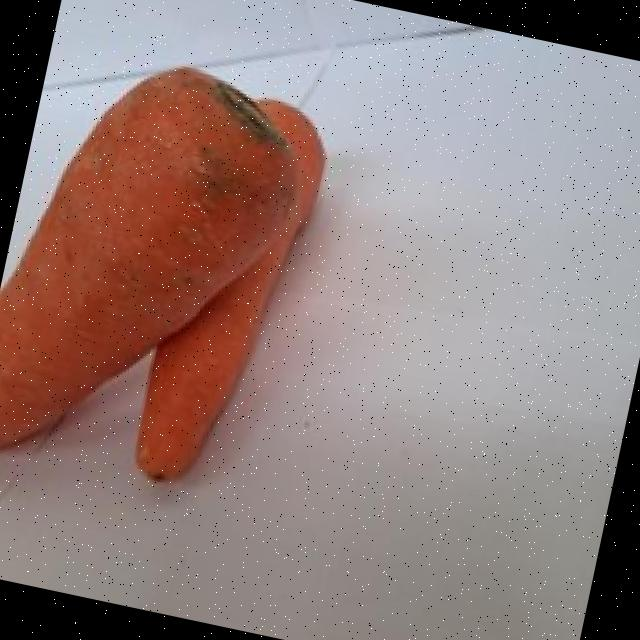carrot: (0, 68, 296, 447), (135, 99, 325, 479)
